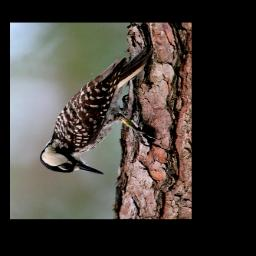Woodpecker: (39, 45, 161, 175)
